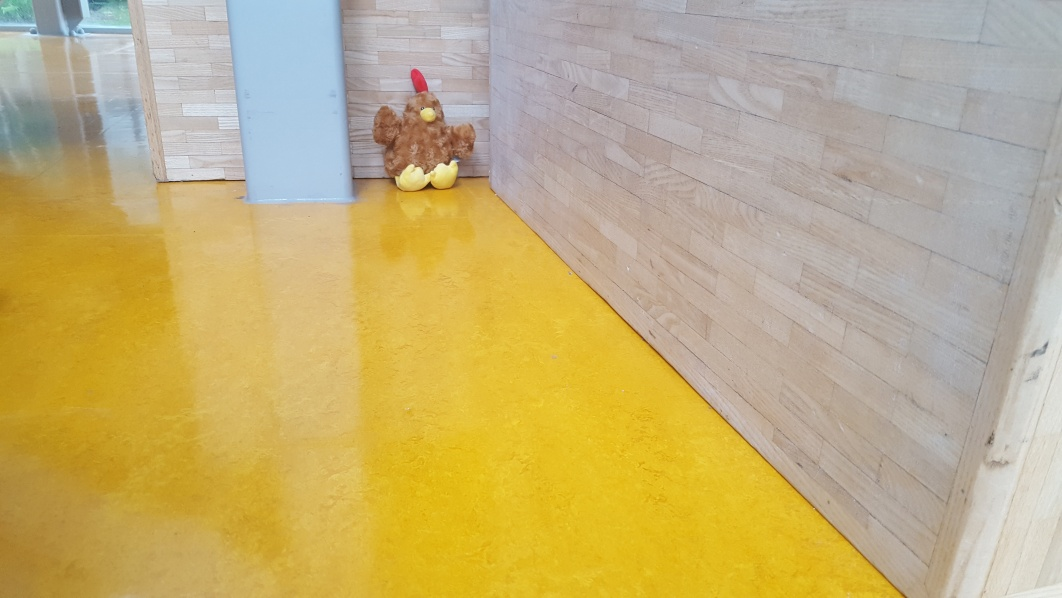chicken: (372, 66, 478, 193)
